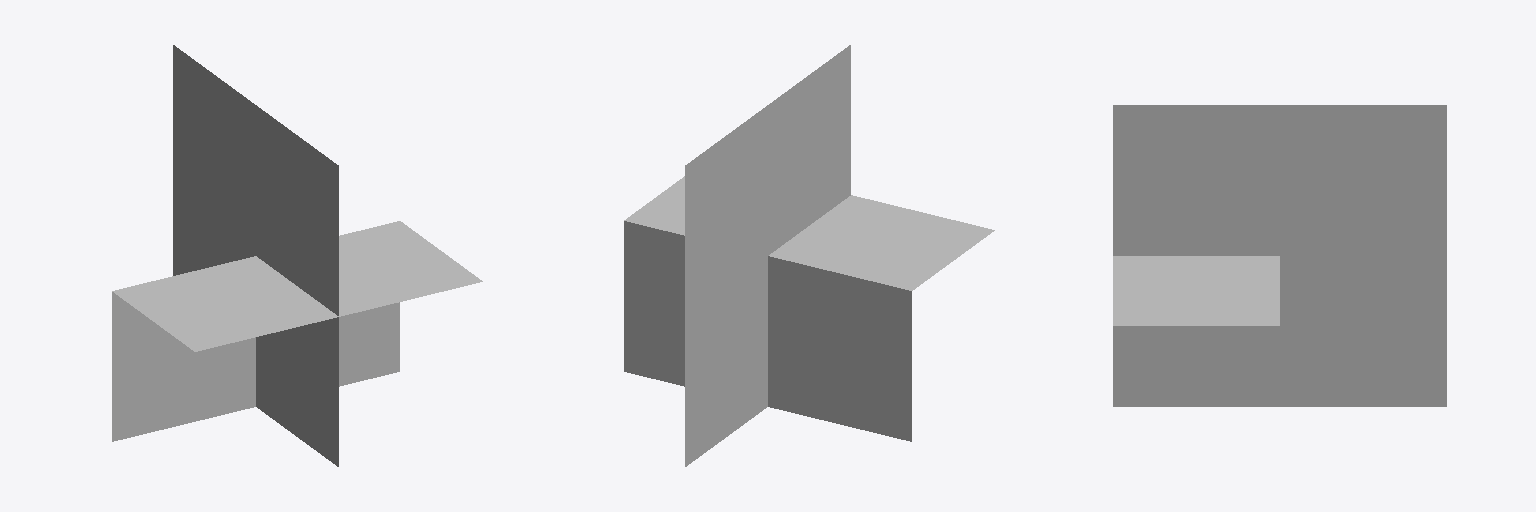
3 renders of one model, left to right at view 1: azimuth 30°, elevation 25°; view 2: azimuth 150°, elevation 25°; view 3: azimuth 270°, elevation 25°, orthographic.
Visible parts, largest first — view 1: 1001_0101_立方体.111; view 2: 1001_0101_立方体.111; view 3: 1001_0101_立方体.111.
Part boxes in pixels (left/top/right/bottom): 1001_0101_立方体.111: left=112, top=45, right=482, bottom=466; 1001_0101_立方体.111: left=624, top=45, right=994, bottom=466; 1001_0101_立方体.111: left=1113, top=105, right=1446, bottom=406.
Bounding box in the file's own units: 1 × 1 × 1.